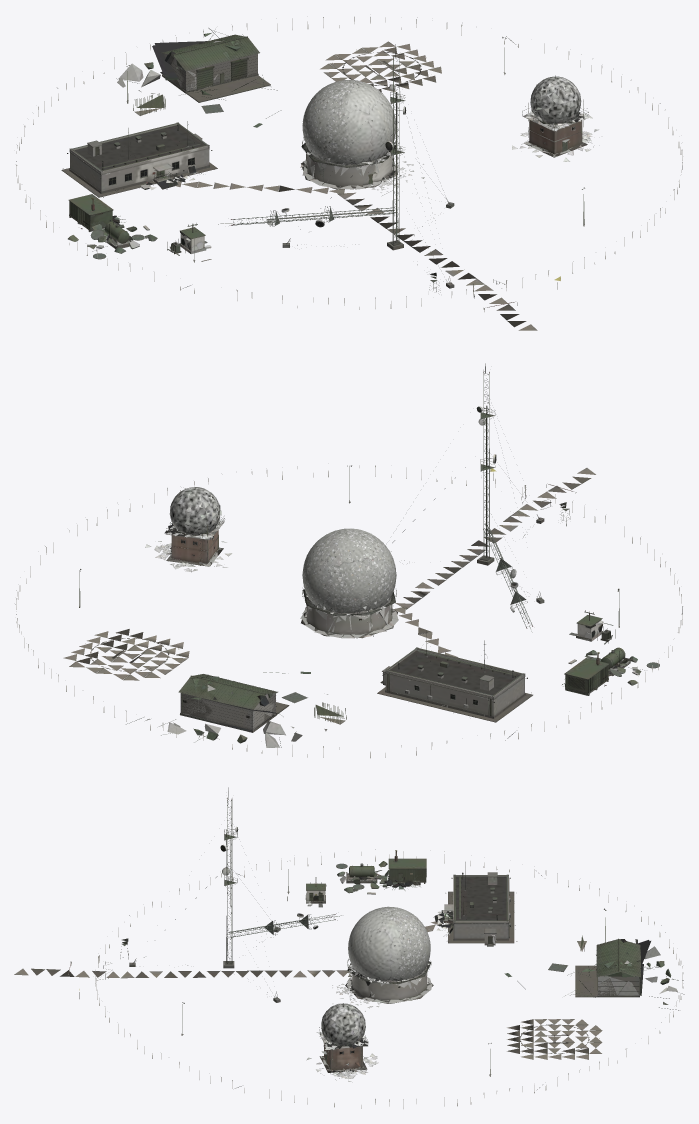
The model's file is site_radar_lo.glb.
The picture shows the model from 3 angles, top to bottom: view 1: azimuth 30°, elevation 25°; view 2: azimuth 150°, elevation 25°; view 3: azimuth 270°, elevation 25°; orthographic projection. The views are drawn at different scales.
Visible parts, largest first — view 1: b_dome1|R_A, b_house|R_A, deco_site|R_A, b_garage|R_A, b_dome2|R_A, b_dome1_ruin|R_B, b_garage_ruin|R_B, b_mast|R_A, b_dome2_ruin|R_B, b_mast_ruin|R_B, b_gen|R_A, b_fuel_ruin|R_B (+2 smaller); view 2: b_dome1|R_A, b_house|R_A, deco_site|R_A, b_dome1_ruin|R_B, b_garage|R_A, b_dome2|R_A, b_garage_ruin|R_B, b_mast|R_A, b_gen|R_A, b_dome2_ruin|R_B, b_mast_ruin|R_B; view 3: b_dome1|R_A, deco_site|R_A, b_house|R_A, b_garage|R_A, b_dome2|R_A, b_dome1_ruin|R_B, b_garage_ruin|R_B, b_mast|R_A, b_gen|R_A, b_dome2_ruin|R_B, b_mast_ruin|R_B, b_fuel_ruin|R_B (+1 smaller).
Part boxes in pixels (x1,y1,x2,y2): b_dome1|R_A: (301, 80, 397, 189); b_house|R_A: (61, 121, 217, 197); deco_site|R_A: (16, 16, 682, 330); b_garage|R_A: (161, 34, 270, 102); b_dome2|R_A: (522, 75, 588, 157); b_dome1_ruin|R_B: (300, 80, 425, 192); b_garage_ruin|R_B: (116, 28, 281, 127); b_mast|R_A: (282, 44, 454, 288); b_dome2_ruin|R_B: (512, 80, 598, 161); b_mast_ruin|R_B: (218, 206, 443, 281); b_gen|R_A: (68, 194, 113, 231); b_fuel_ruin|R_B: (68, 225, 157, 259); b_dome1|R_A: (301, 528, 397, 638); b_house|R_A: (377, 631, 532, 722); deco_site|R_A: (15, 465, 682, 758); b_dome1_ruin|R_B: (300, 529, 398, 638); b_garage|R_A: (178, 674, 289, 732); b_dome2|R_A: (166, 487, 224, 566); b_garage_ruin|R_B: (126, 671, 310, 747); b_mast|R_A: (391, 363, 544, 603); b_gen|R_A: (564, 652, 609, 695); b_dome2_ruin|R_B: (145, 491, 231, 572); b_mast_ruin|R_B: (404, 524, 532, 632); b_dome1|R_A: (345, 907, 433, 1003); deco_site|R_A: (14, 849, 683, 1108); b_house|R_A: (443, 862, 514, 946); b_garage|R_A: (575, 938, 640, 997); b_dome2|R_A: (319, 1003, 367, 1072); b_dome1_ruin|R_B: (332, 906, 432, 1011); b_garage_ruin|R_B: (504, 939, 684, 1010); b_mast|R_A: (129, 787, 280, 1002); b_gen|R_A: (388, 850, 426, 885); b_dome2_ruin|R_B: (306, 1003, 378, 1082); b_mast_ruin|R_B: (187, 913, 341, 992); b_fuel_ruin|R_B: (336, 861, 387, 894).
Size of the model in its own units: 129 by 43.43 by 146.
17 materials, 17 textured.
